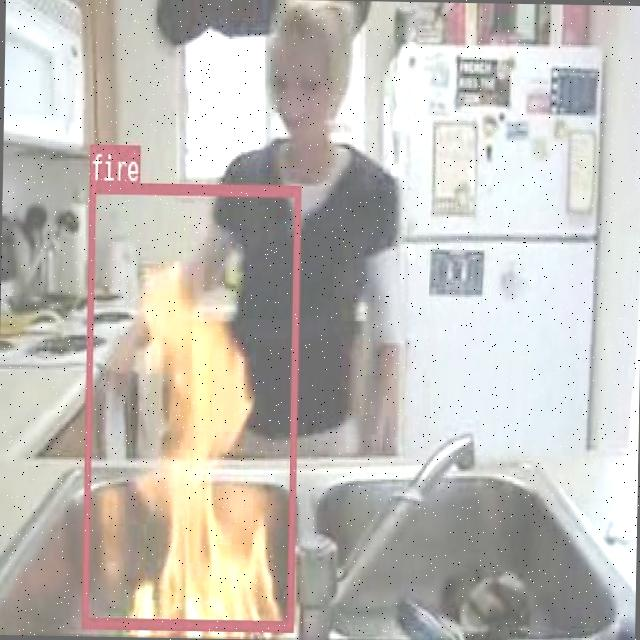fire: (80, 180, 299, 630)
